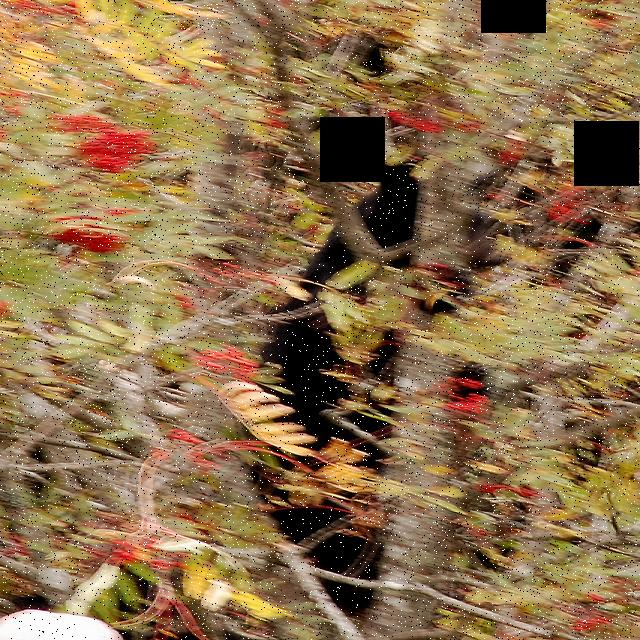Bear: (262, 147, 480, 594)
